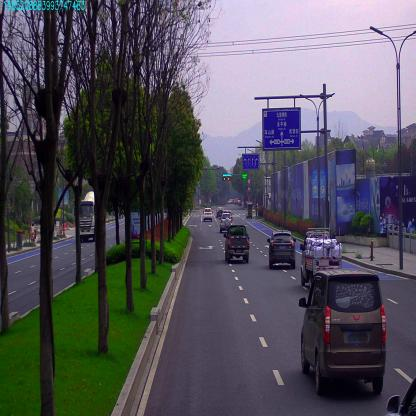traffic-light: (223, 173, 232, 176), (228, 176, 232, 181), (221, 176, 226, 180)
